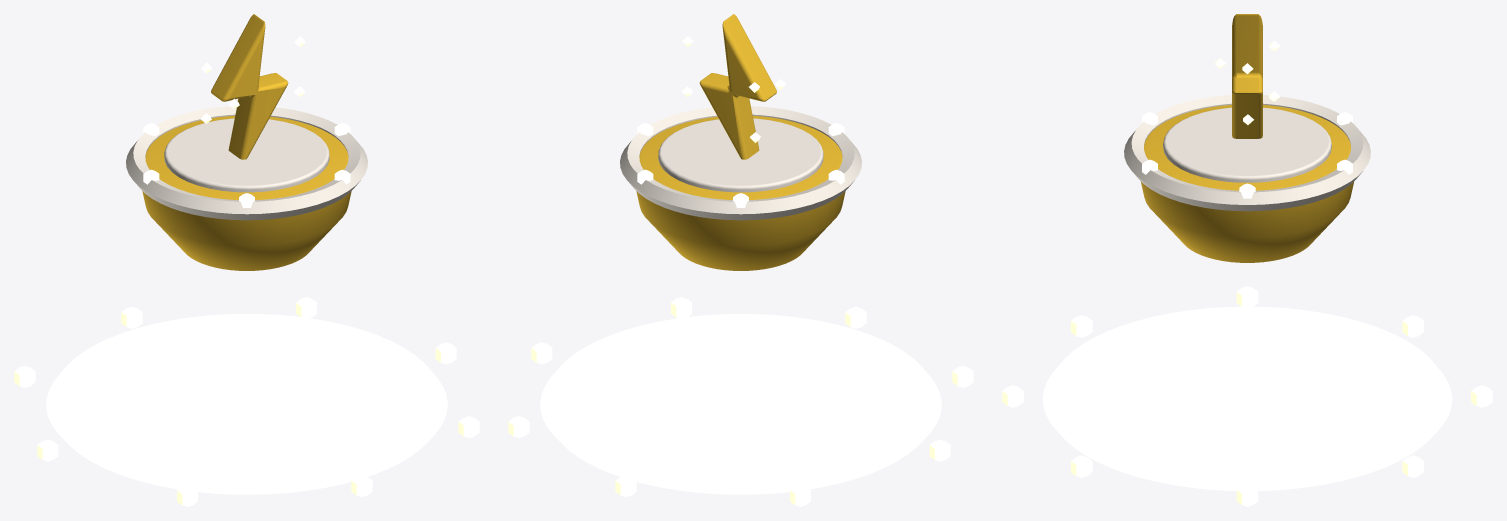
Rendered from pu_boost.glb.
3 renders of one model, left to right at view 1: azimuth 30°, elevation 25°; view 2: azimuth 150°, elevation 25°; view 3: azimuth 270°, elevation 25°, orthographic.
Parts seen in each view (by area): view 1: pu_boost, capsule.003; view 2: pu_boost, capsule.003; view 3: pu_boost, capsule.003.
Part boxes in pixels (x1,y1,x2,y2): pu_boost: (14, 297, 479, 506); capsule.003: (126, 14, 367, 270); pu_boost: (508, 297, 973, 506); capsule.003: (620, 14, 861, 270); pu_boost: (1002, 286, 1492, 506); capsule.003: (1124, 14, 1370, 262).
Bounding box in the file's own units: 1.56 × 1.41 × 1.57.
1 material, 1 textured.
